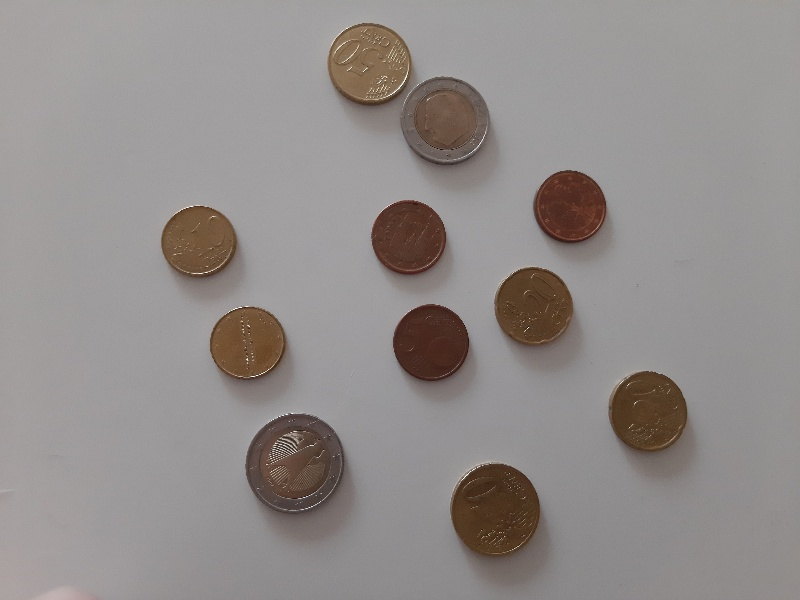10 cent: (159, 202, 241, 280), (211, 305, 290, 383)
2 euro: (242, 411, 348, 514), (399, 75, 495, 165)
20 cent: (608, 369, 691, 452), (495, 265, 576, 347)
5 cent: (389, 302, 475, 382), (370, 196, 449, 276), (533, 167, 610, 247)
50 cent: (447, 459, 547, 558), (325, 20, 418, 108)
